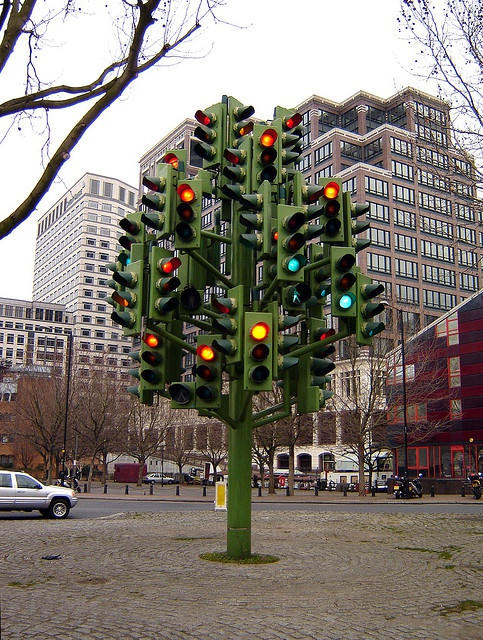non-vehicle: (468, 471, 482, 499), (393, 478, 411, 498), (408, 473, 422, 496)
